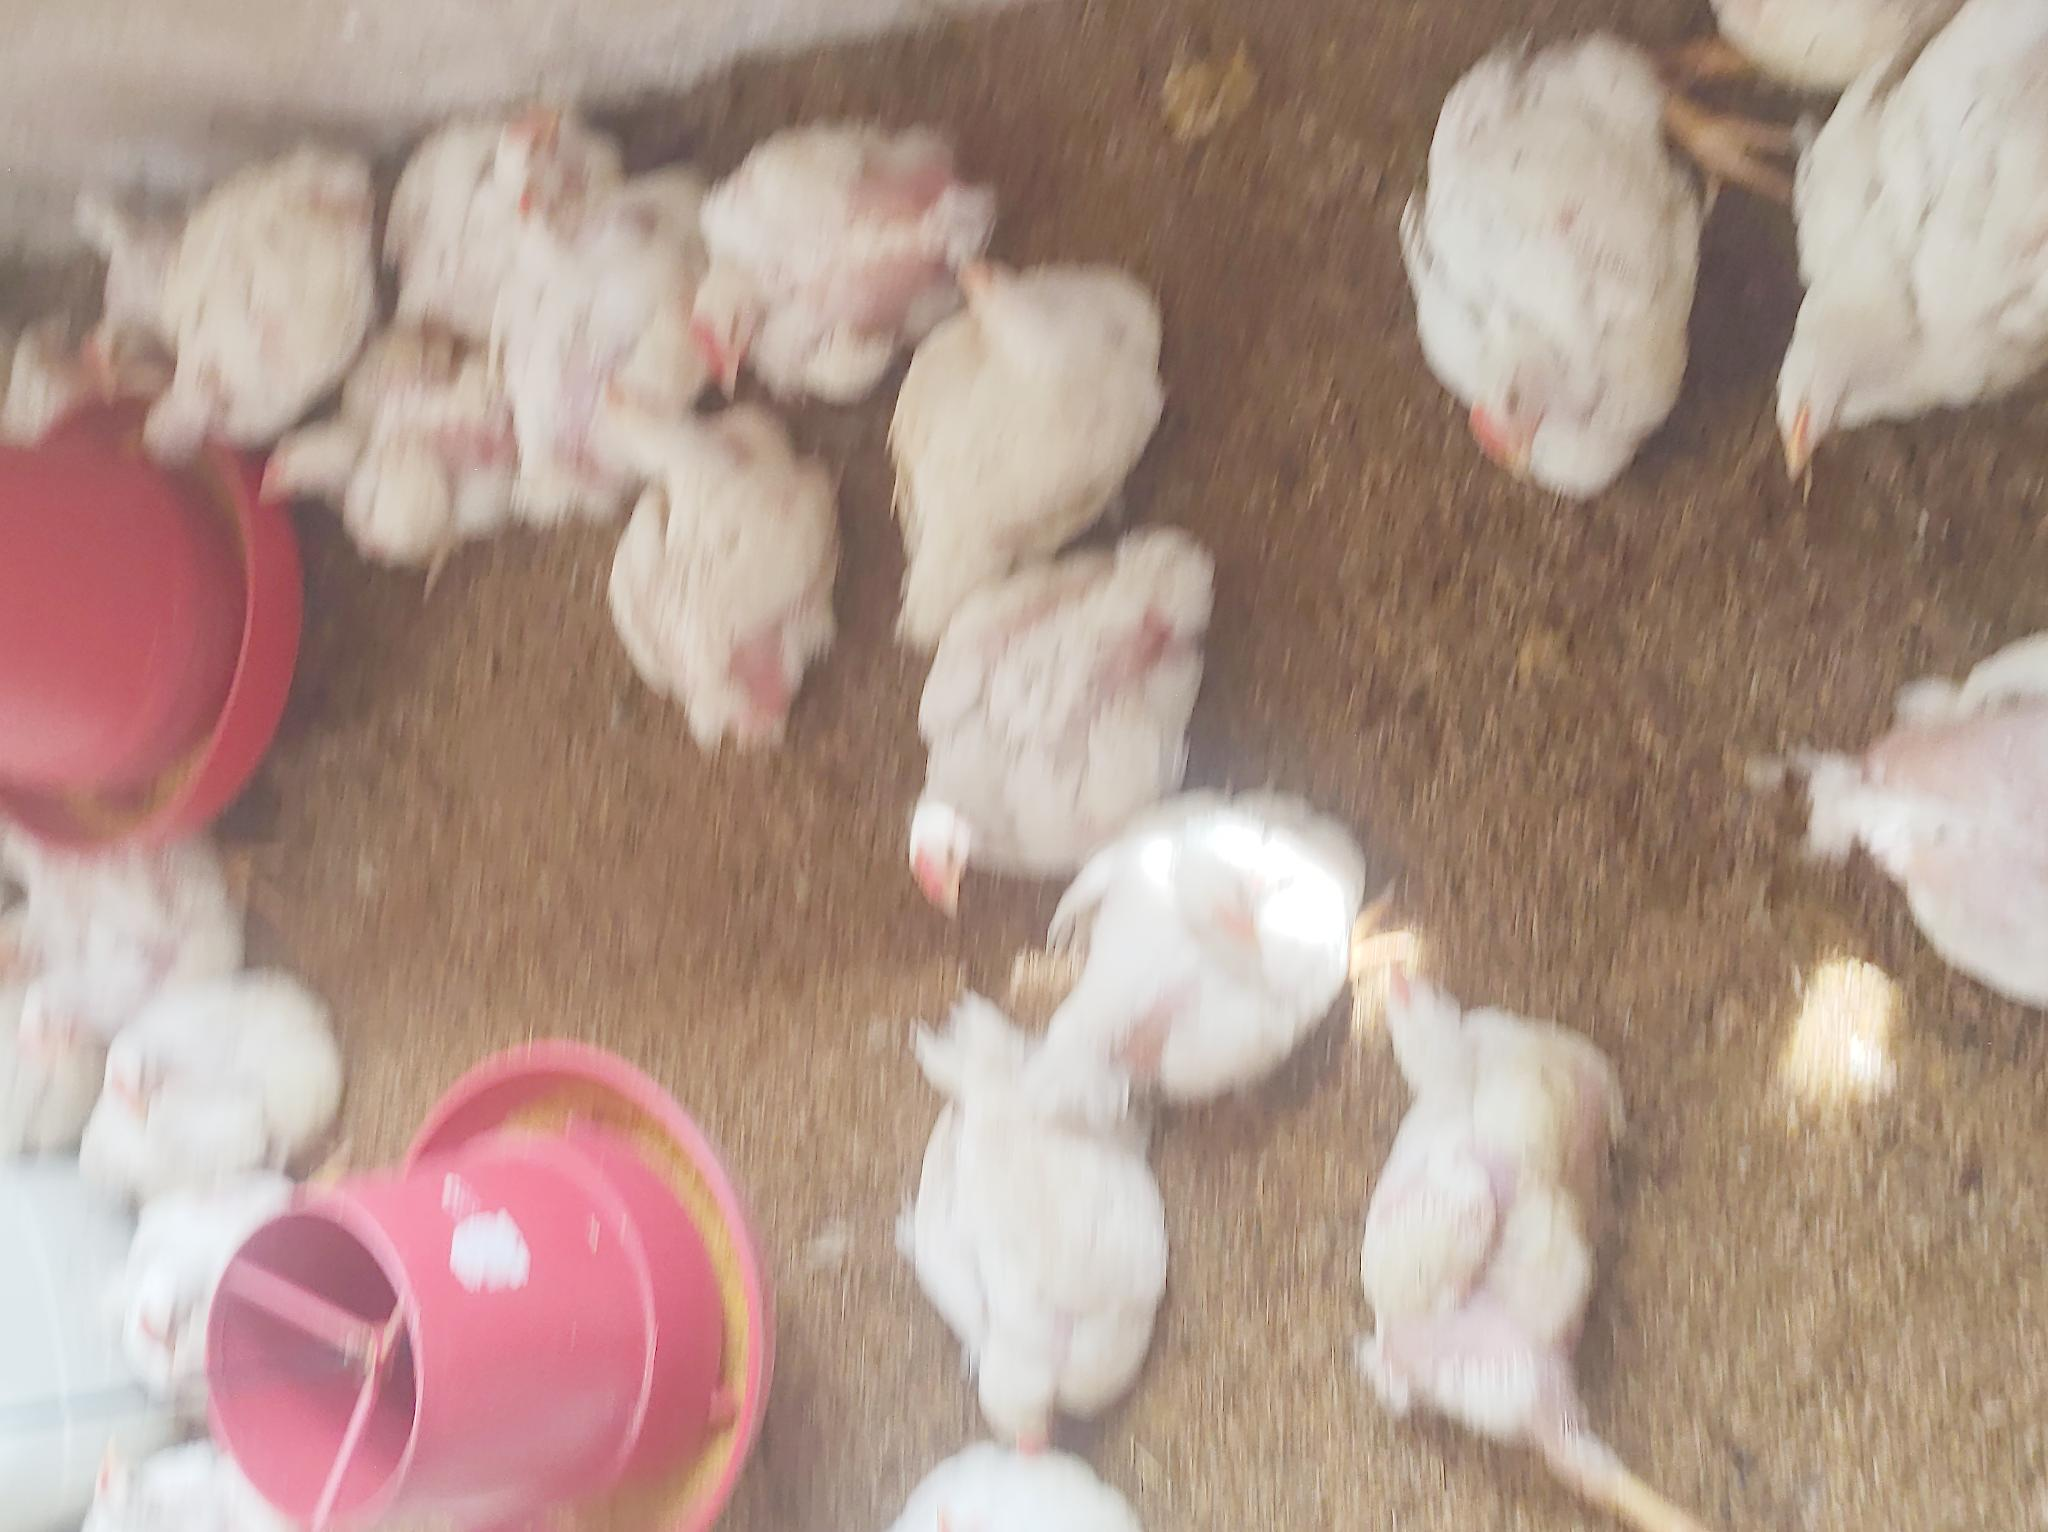Pollos: (1326, 945, 1699, 1482), (1783, 0, 2048, 549), (920, 521, 1260, 945), (1430, 3, 1709, 497), (877, 259, 1189, 686), (906, 1006, 1205, 1431), (1010, 784, 1400, 1093), (1797, 591, 2048, 1052), (587, 389, 837, 784), (161, 117, 417, 497), (692, 93, 988, 417), (365, 306, 560, 574), (71, 982, 339, 1173), (849, 1394, 1195, 1532), (413, 56, 668, 241), (23, 784, 238, 969), (108, 1226, 330, 1384), (245, 299, 381, 525), (1717, 0, 1955, 93), (117, 1435, 325, 1532)
